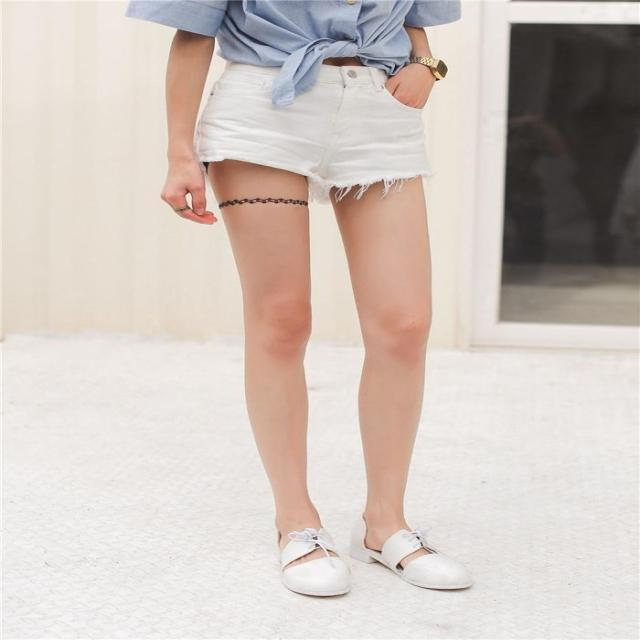short sleeve top: (220, 1, 415, 70)
shorts: (199, 51, 430, 184)
